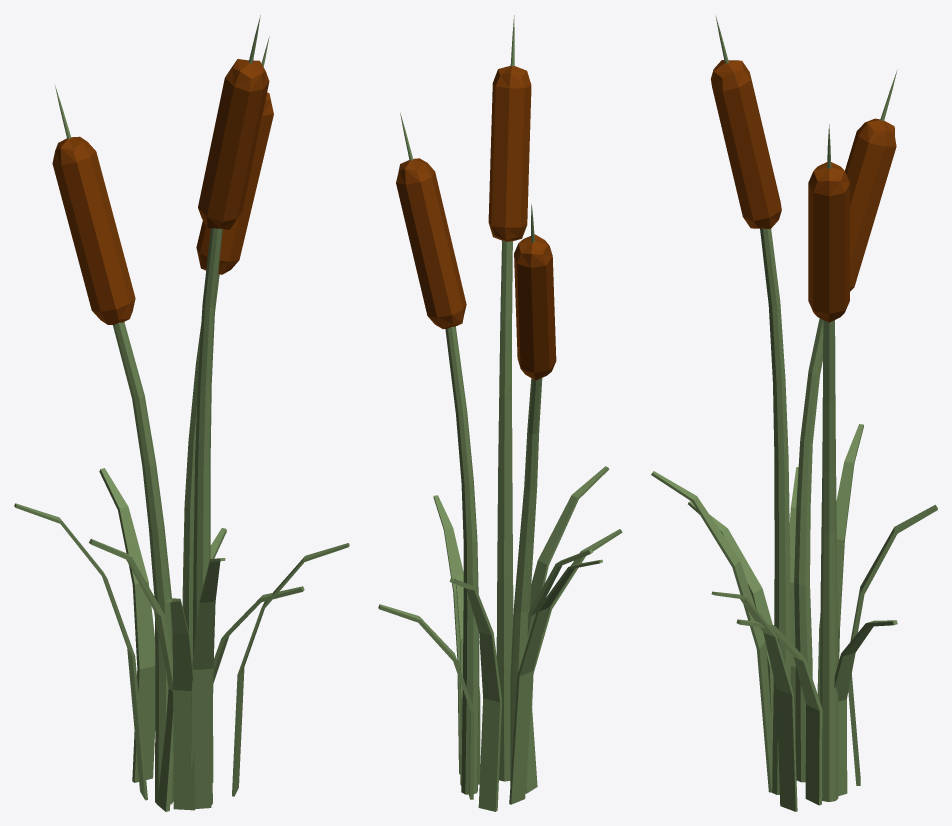
The model's file is Cattail.glb.
3 views of the same model, side by side, from view 1: azimuth 30°, elevation 25°; view 2: azimuth 150°, elevation 25°; view 3: azimuth 270°, elevation 25° (orthographic). The views are drawn at different scales.
Parts seen in each view (by area): view 1: Node; view 2: Node; view 3: Node.
Part boxes in pixels (x1=…): Node: x1=14, y1=15, x2=349, y2=811; Node: x1=378, y1=15, x2=622, y2=811; Node: x1=651, y1=16, x2=937, y2=811.
Size of the model in its own units: 4.47 by 13.25 by 4.37.
